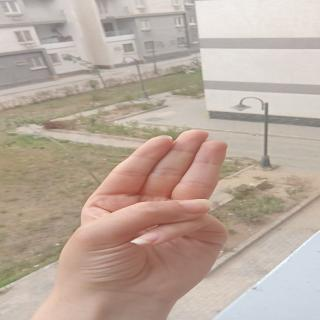THA: (59, 118, 284, 304)
